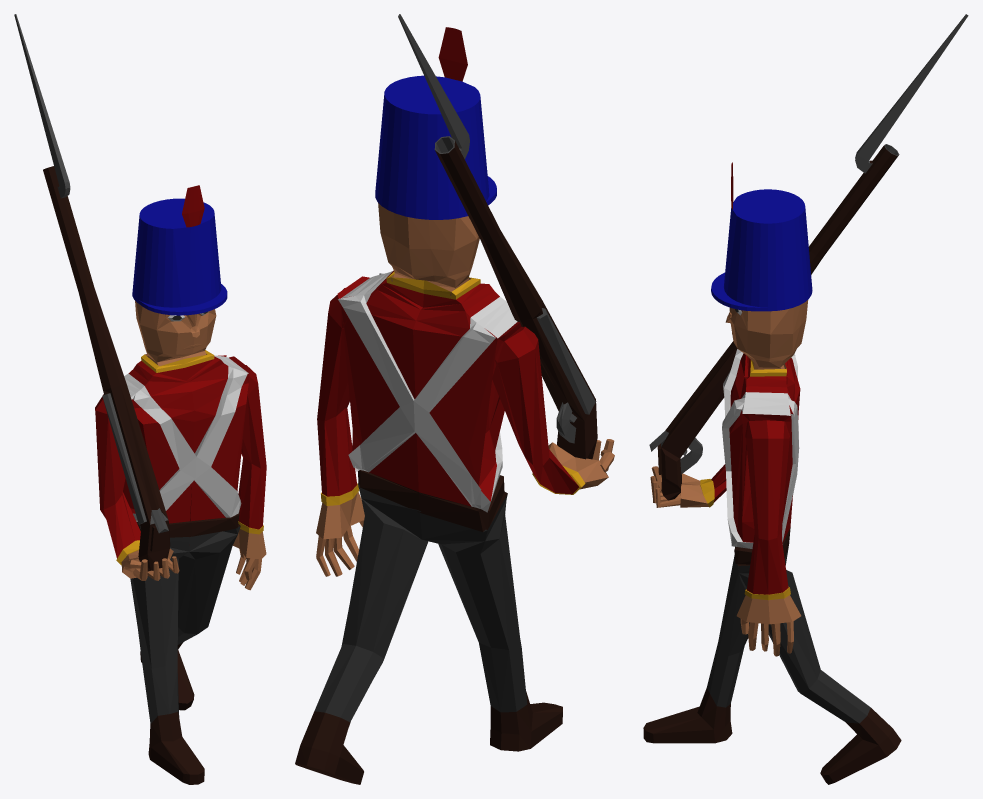
Rendered from Infantry_000042.obj.
3 renders of one model, left to right at view 1: azimuth 30°, elevation 25°; view 2: azimuth 150°, elevation 25°; view 3: azimuth 270°, elevation 25°, orthographic. The views are drawn at different scales.
Parts seen in each view (by area): view 1: {Man}_Circle, {Mesket}_Cube.001; view 2: {Man}_Circle, {Mesket}_Cube.001; view 3: {Man}_Circle, {Mesket}_Cube.001.
Part boxes in pixels (x1,y1,x2,y2): {Man}_Circle: [95, 185, 266, 784]; {Mesket}_Cube.001: [14, 14, 170, 571]; {Man}_Circle: [295, 27, 614, 784]; {Mesket}_Cube.001: [398, 14, 597, 459]; {Man}_Circle: [643, 162, 901, 784]; {Mesket}_Cube.001: [649, 14, 968, 500].
Bounding box in the file's own units: 5.63 × 19.61 × 8.08.
